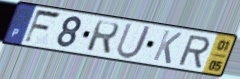8: (55, 15, 83, 50)
F: (22, 8, 64, 46)
K: (150, 29, 184, 66)
R: (85, 19, 121, 56), (176, 34, 211, 69)
U: (114, 22, 154, 60)
